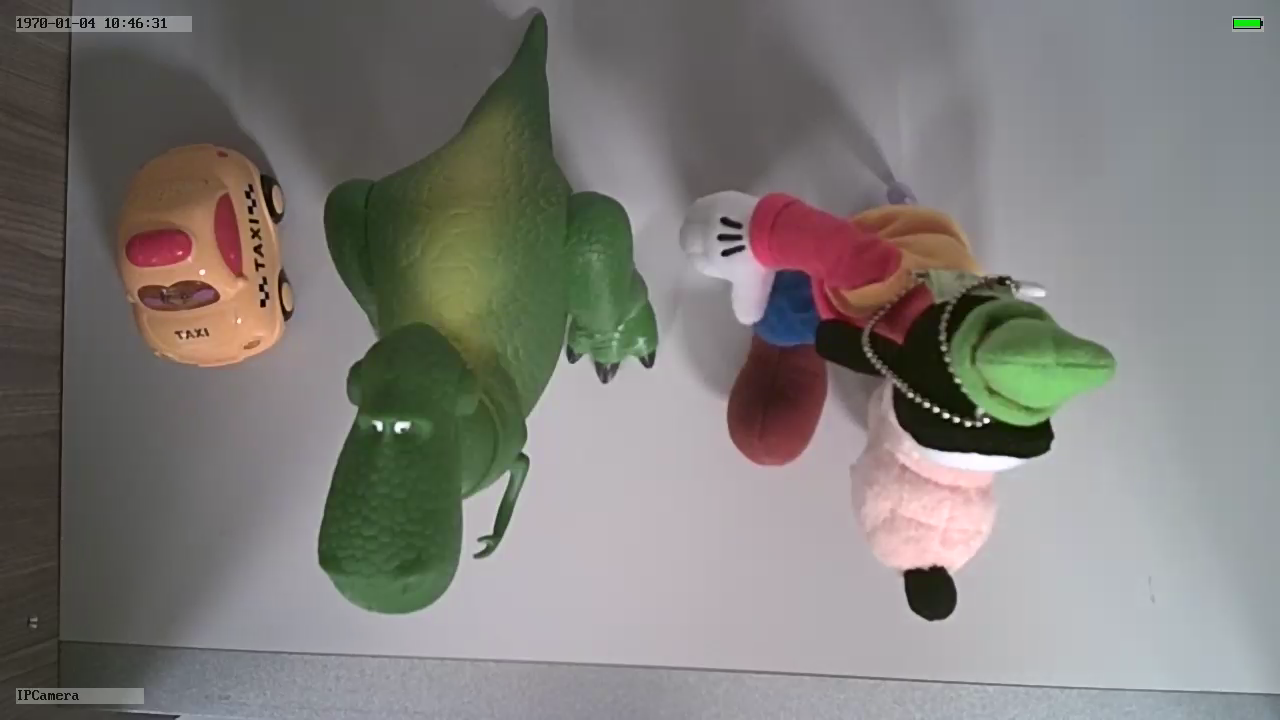goofy: (678, 183, 1119, 633)
